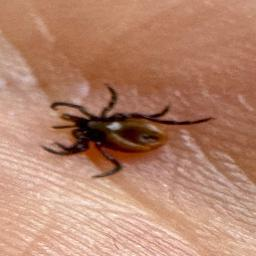Ixodes scapularis: (40, 83, 214, 181)
